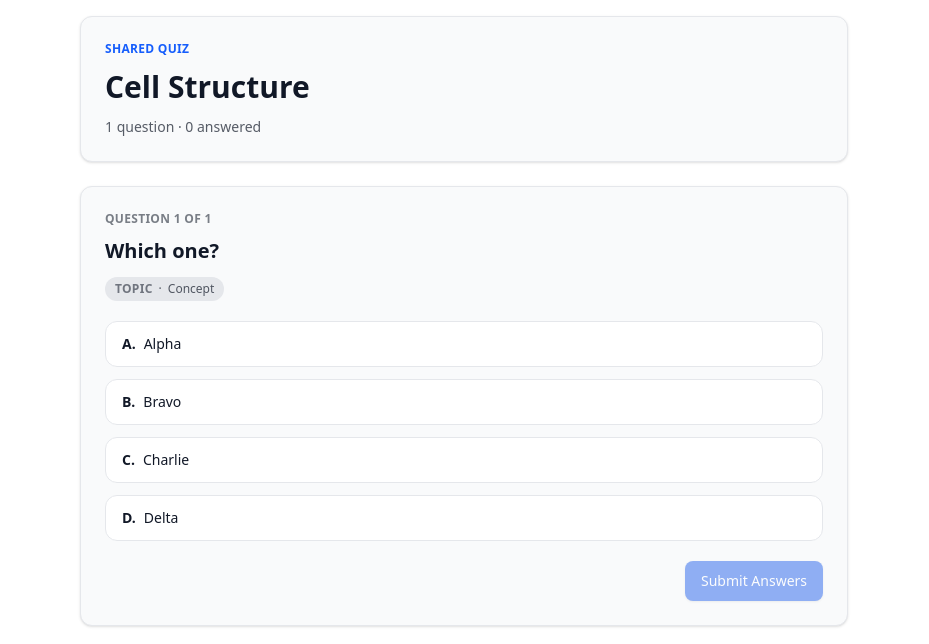
Test: shared quiz results — continue learning › renders no continue-learning affordance when there is no eligible source
Expected: the heading "Which one?" is shown, [105,237,219,264]
Click the button "B.Bravo". click: (162, 402)
box: [105,379,823,425]
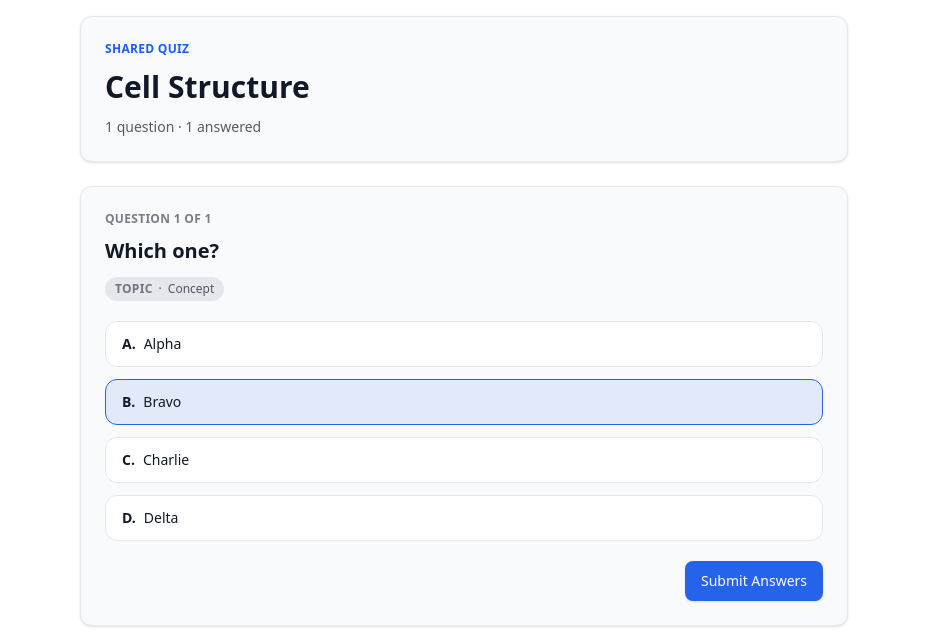
Click the button "Submit Answers". click: (754, 581)
box: [685,561,823,601]
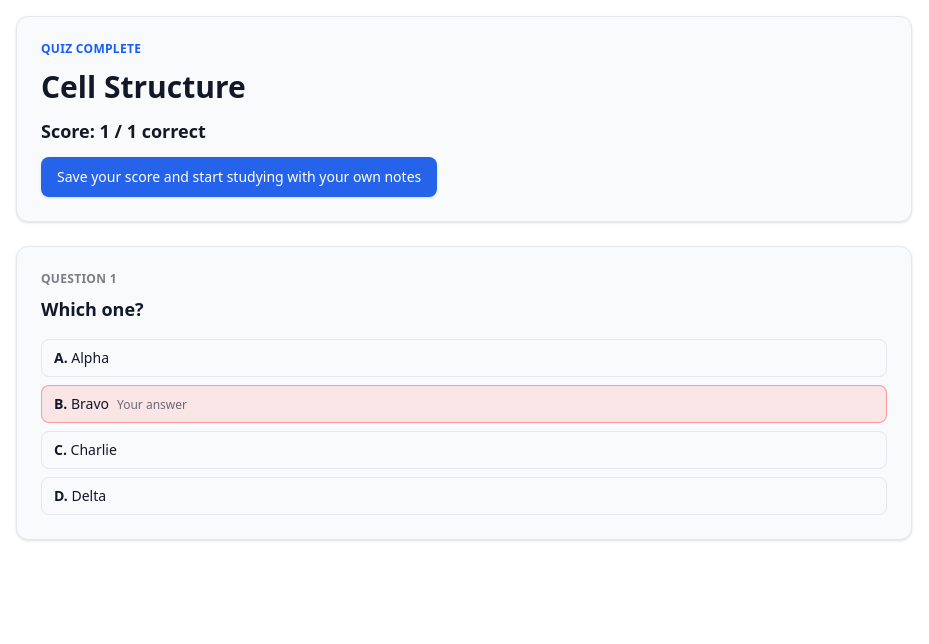
Result: the text "Quiz Complete" is shown at [41,40,141,57]
